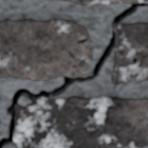brick: (15, 97, 147, 147), (0, 20, 91, 79), (112, 23, 147, 83), (71, 0, 147, 3), (85, 40, 91, 47)
crack: (0, 1, 147, 147), (67, 51, 88, 64), (130, 54, 147, 67), (77, 37, 92, 51)
